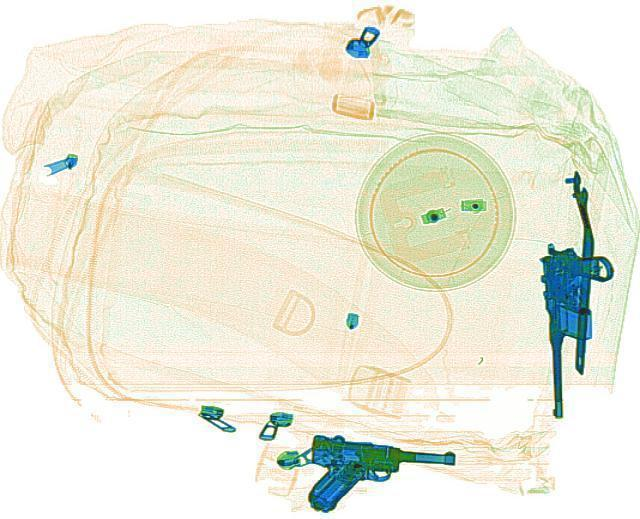Gun: (536, 240, 622, 417), (298, 432, 456, 516)
